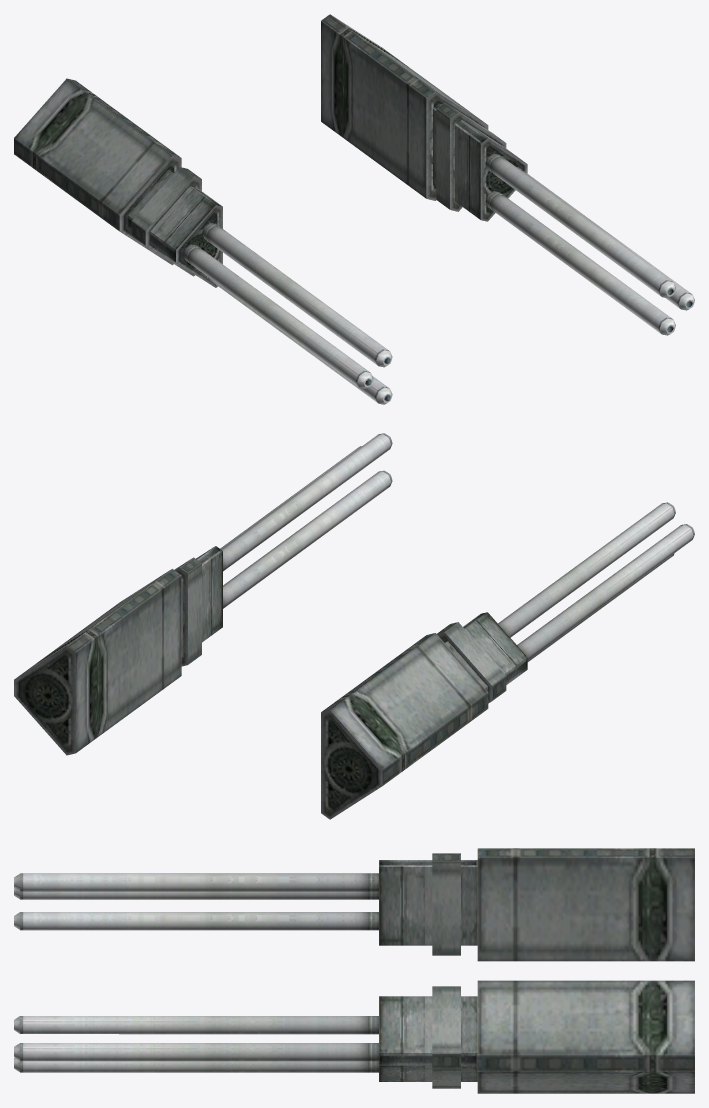
Rendered from bwing_weapon1_s04_l0.fbx.
The picture shows the model from 3 angles, top to bottom: view 1: azimuth 30°, elevation 25°; view 2: azimuth 150°, elevation 25°; view 3: azimuth 270°, elevation 25°; orthographic projection. The views are drawn at different scales.
Parts seen in each view (by area): view 1: mesh_node; view 2: mesh_node; view 3: mesh_node.
Part boxes in pixels (left/top/right/bottom): mesh_node: left=14, top=14, right=694, bottom=404; mesh_node: left=14, top=433, right=694, bottom=819; mesh_node: left=14, top=848, right=694, bottom=1093.
Size of the model in its own units: 0.9021 by 0.2562 by 1.4.
